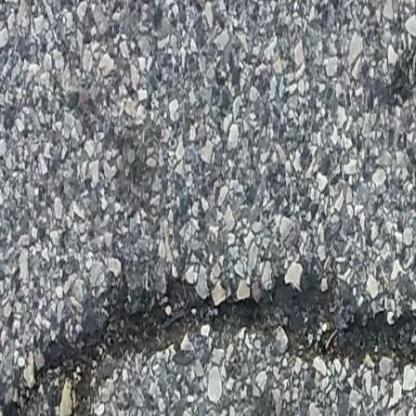Cracks: (0, 253, 416, 380)
